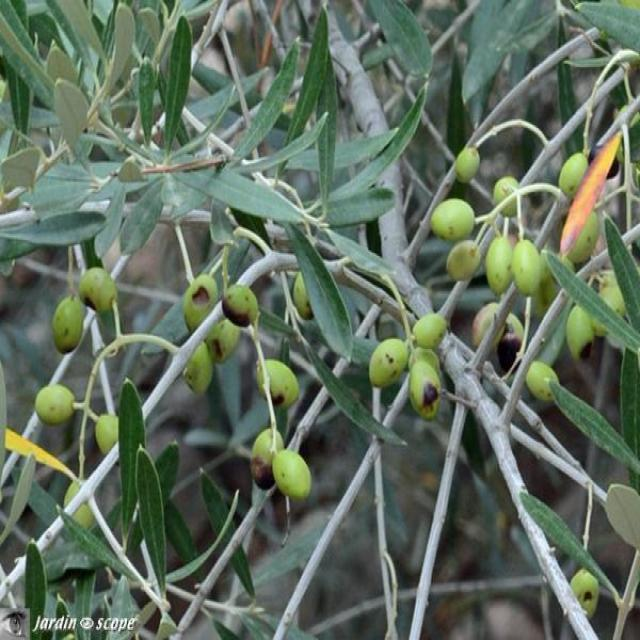Anthracnose: (182, 274, 218, 332), (51, 296, 84, 354), (370, 339, 408, 387), (510, 238, 541, 296), (410, 360, 440, 418), (429, 200, 474, 238), (484, 234, 512, 295), (34, 384, 74, 425), (79, 268, 116, 312), (223, 284, 257, 326), (250, 434, 272, 488)
